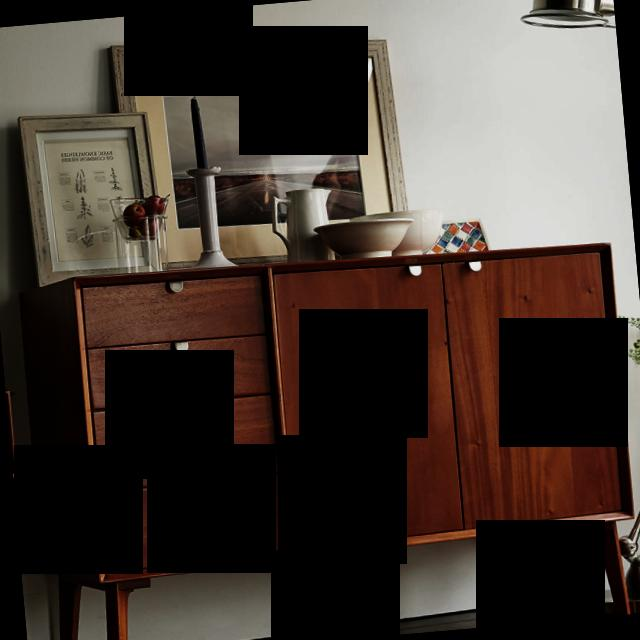vintage shelf: (18, 225, 640, 640)
